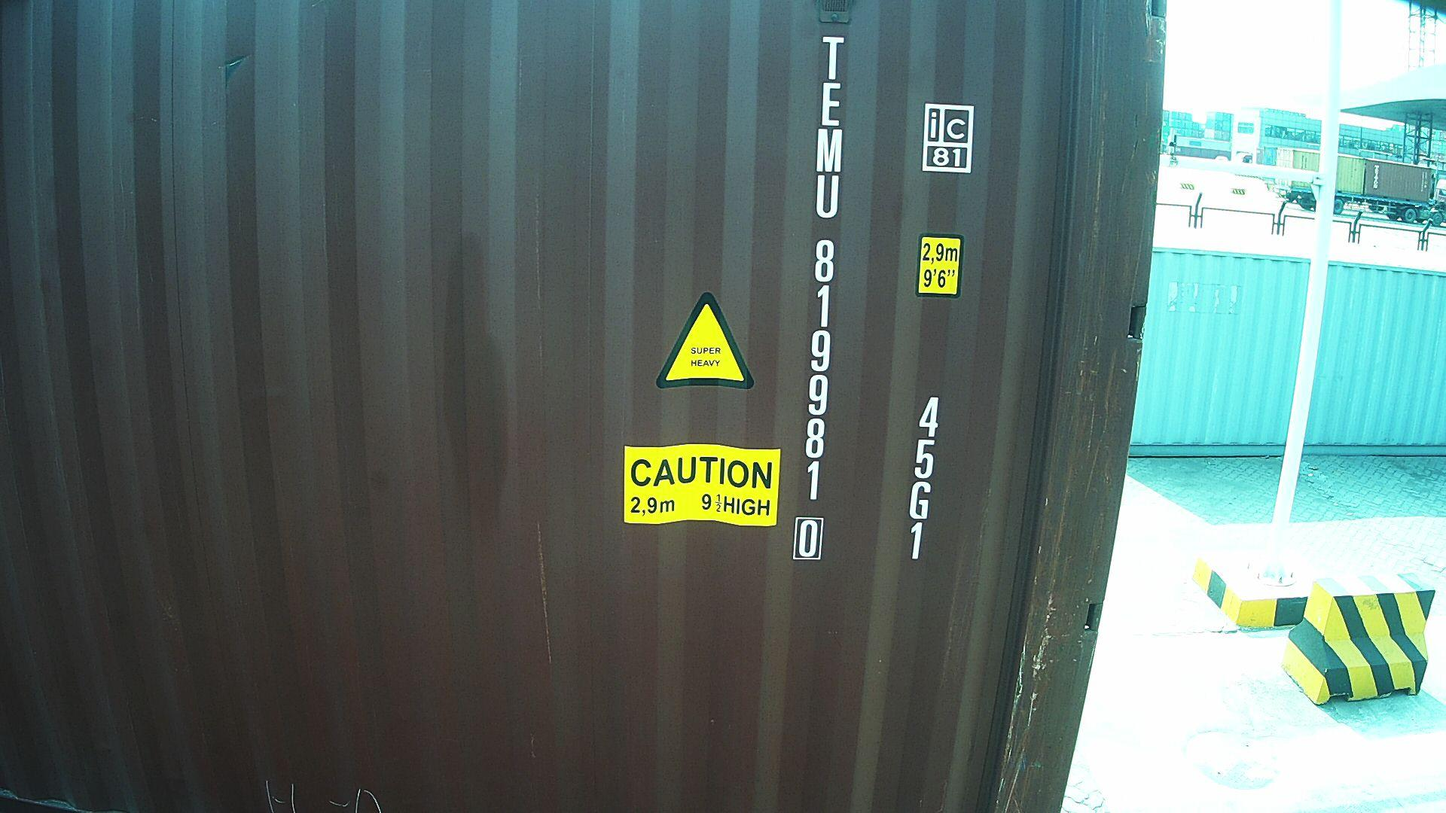container-numbers: (788, 31, 849, 563), (899, 390, 943, 568)
